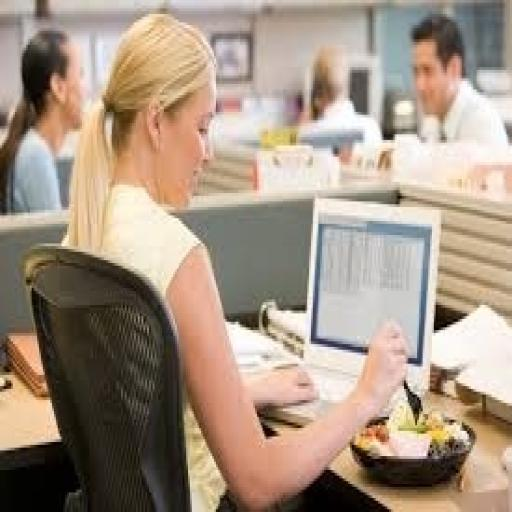eating: (60, 11, 412, 509)
